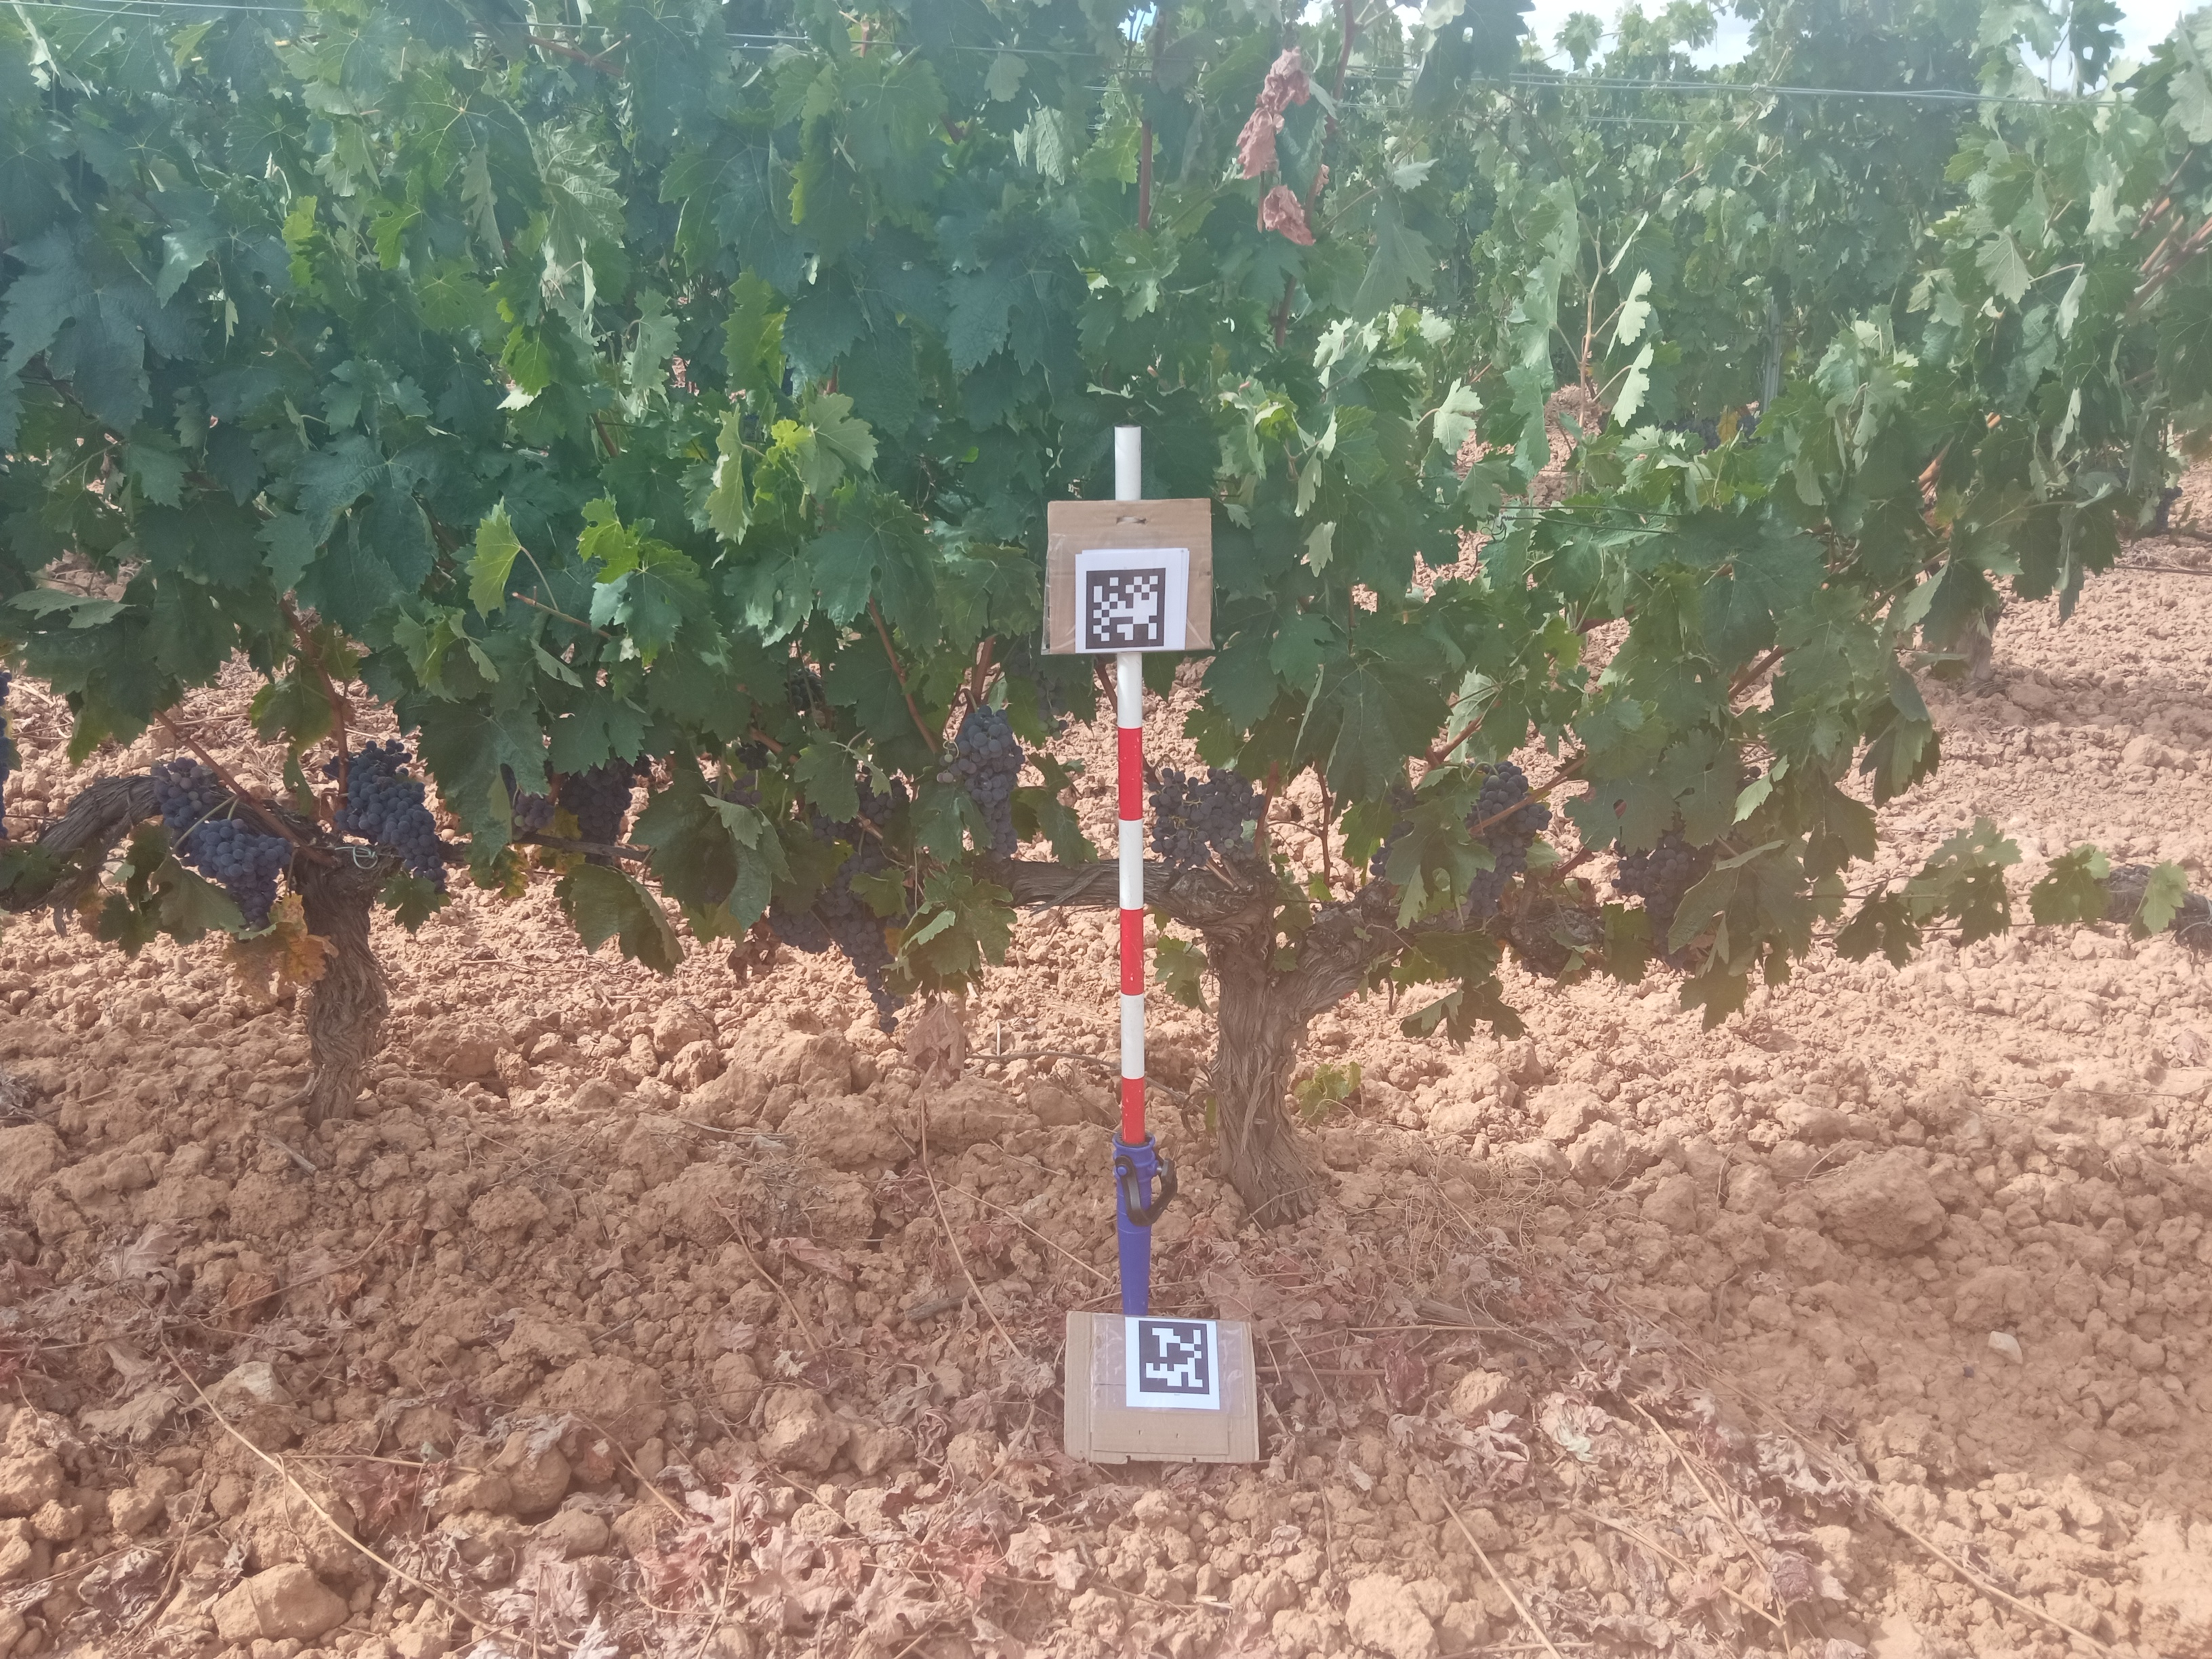grapes: (315, 737, 449, 894), (812, 852, 916, 1037), (1454, 758, 1554, 925), (1609, 816, 1710, 971), (932, 702, 1026, 861), (167, 819, 294, 934), (1144, 763, 1271, 878), (556, 744, 653, 870), (1005, 647, 1071, 742), (146, 755, 219, 833), (810, 812, 895, 877), (1366, 781, 1418, 878), (766, 894, 833, 957), (502, 770, 556, 842), (852, 765, 913, 828), (0, 666, 14, 840), (782, 660, 826, 716), (733, 714, 770, 775), (705, 772, 763, 809), (1737, 762, 1763, 788)
